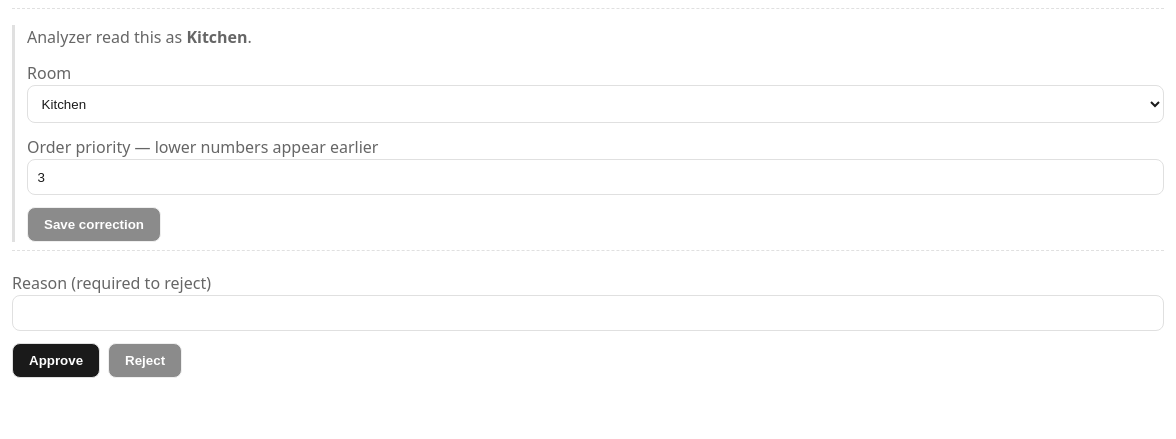
Test: unsaved corrections block the review decision › stays blocked when an existing override is cleared — clearing is a change
This screenshot has width=1176, height=439.
Select "Use analyzer result" in the dropdown named "Room for a.jpg": (596, 104) [27, 85, 1164, 123]
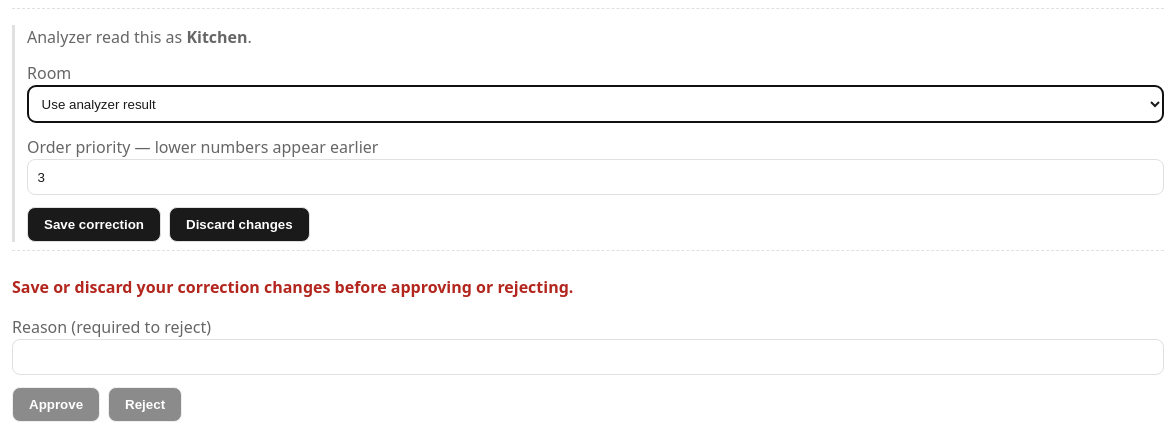
Check: the button "Approve" is disabled, box [12, 387, 100, 422]
